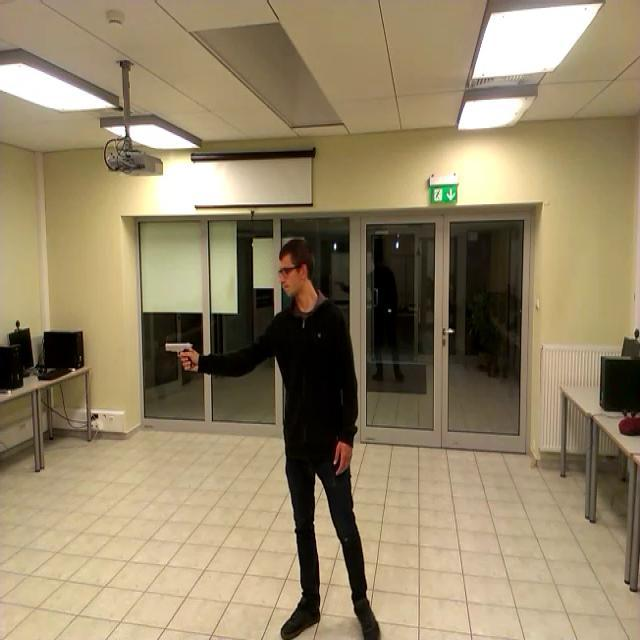Gun: (159, 331, 196, 380)
